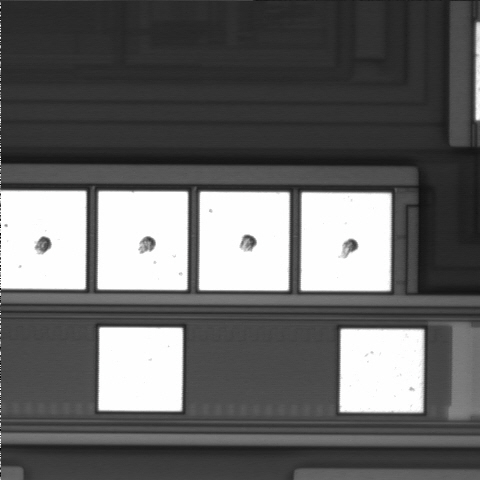pad: (98, 191, 188, 290), (199, 192, 289, 291), (301, 193, 391, 291), (99, 328, 183, 411), (340, 329, 424, 412)
